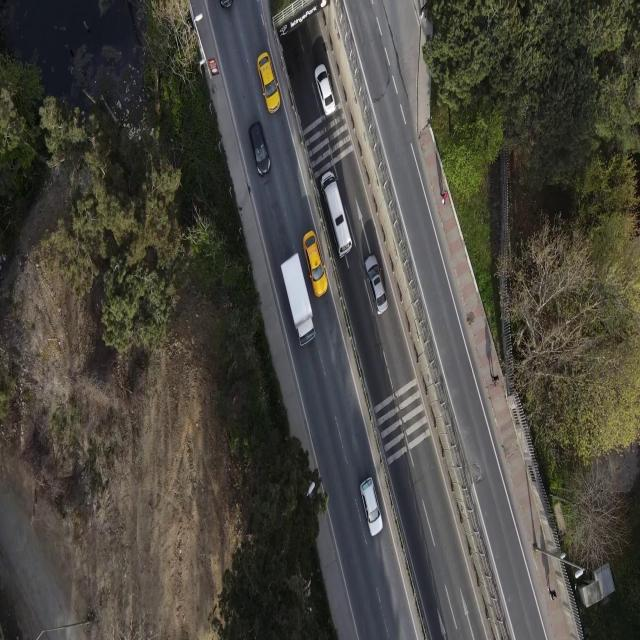p3rson: (419, 0, 428, 22), (547, 586, 557, 602), (440, 189, 448, 206), (490, 372, 499, 387)
